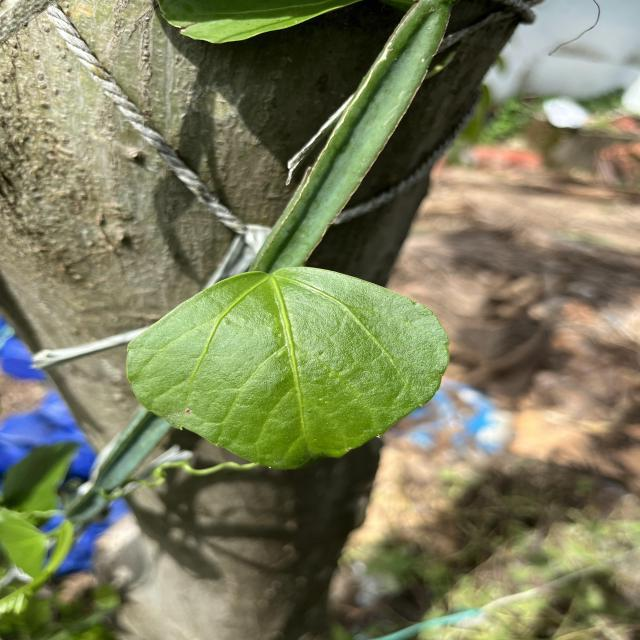Cissus quadrangularis: (121, 262, 454, 474)
